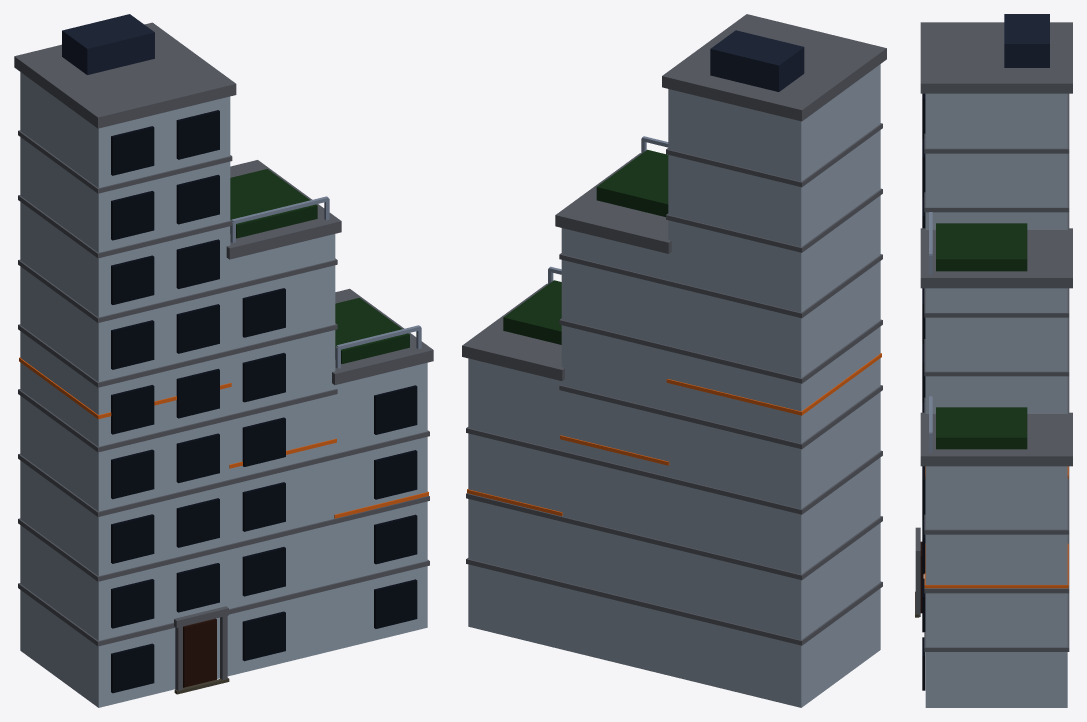
Rendered from tower4.obj.
3 renders of one model, left to right at view 1: azimuth 30°, elevation 25°; view 2: azimuth 150°, elevation 25°; view 3: azimuth 270°, elevation 25°, orthographic. The views are drawn at different scales.
Visible parts, largest first — view 1: tiers, windows, tier-caps, floor-bands, roof-gardens, roof-plant, entrance, garden-rails, window-lights, canopy-brackets; view 2: tiers, tier-caps, floor-bands, roof-gardens, roof-plant, window-lights; view 3: tiers, tier-caps, roof-gardens, floor-bands, roof-plant, windows, window-lights, garden-rails, canopy-brackets.
Boxes of the visible parts, x1,y1,x2,y2 form: tiers: [20, 72, 427, 707]; windows: [111, 110, 417, 693]; tier-caps: [14, 22, 433, 384]; floor-bands: [18, 130, 429, 646]; roof-gardens: [230, 169, 409, 363]; roof-plant: [62, 14, 154, 74]; entrance: [183, 618, 216, 687]; garden-rails: [230, 196, 421, 368]; window-lights: [19, 357, 428, 518]; canopy-brackets: [175, 612, 227, 690]; tiers: [468, 64, 880, 707]; tier-caps: [462, 14, 886, 380]; floor-bands: [466, 123, 882, 645]; roof-gardens: [503, 149, 668, 344]; roof-plant: [710, 30, 804, 91]; window-lights: [467, 353, 881, 516]; tiers: [925, 93, 1067, 707]; tier-caps: [920, 22, 1072, 466]; roof-gardens: [936, 223, 1027, 449]; floor-bands: [924, 93, 1069, 651]; roof-plant: [1004, 14, 1049, 67]; windows: [922, 93, 925, 690]; window-lights: [924, 466, 1068, 588]; garden-rails: [929, 212, 932, 452]; canopy-brackets: [915, 557, 920, 616].
Size of the model in its own units: 6.94 by 12.24 by 3.11.
